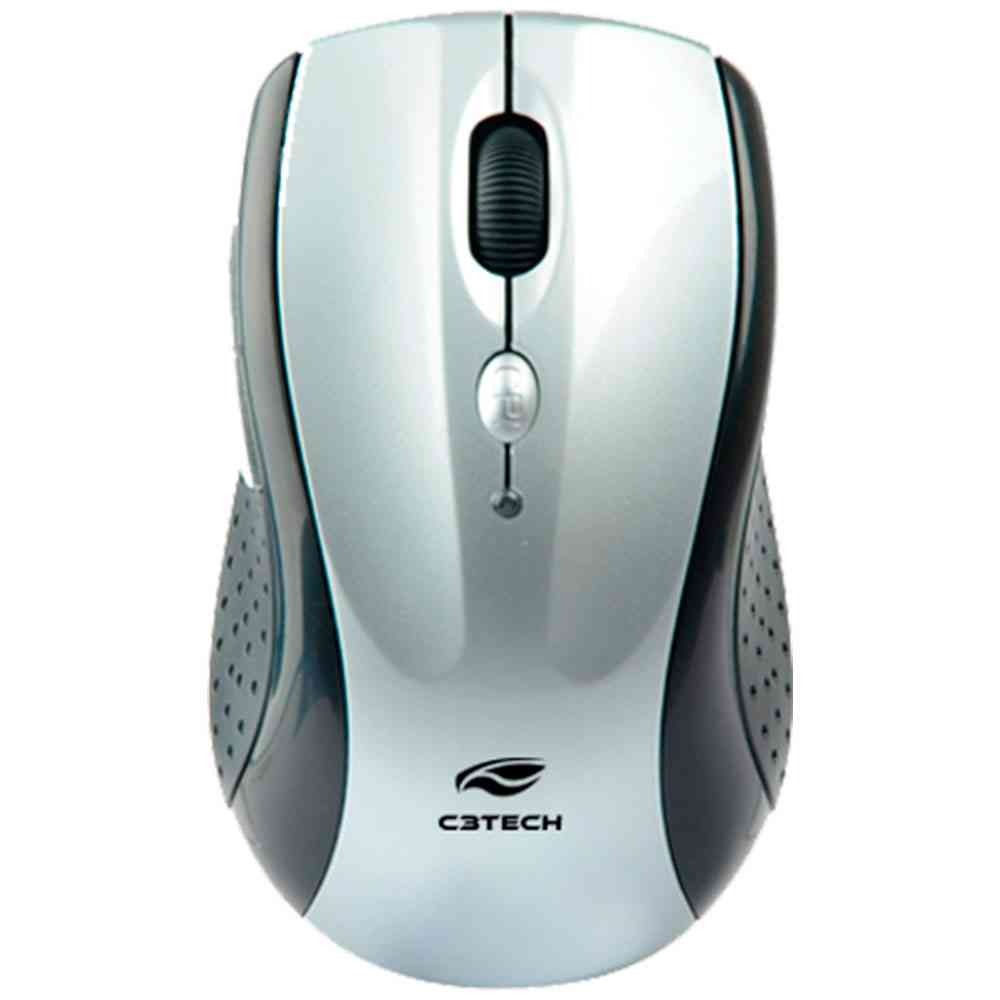mouse: (203, 13, 803, 996)
